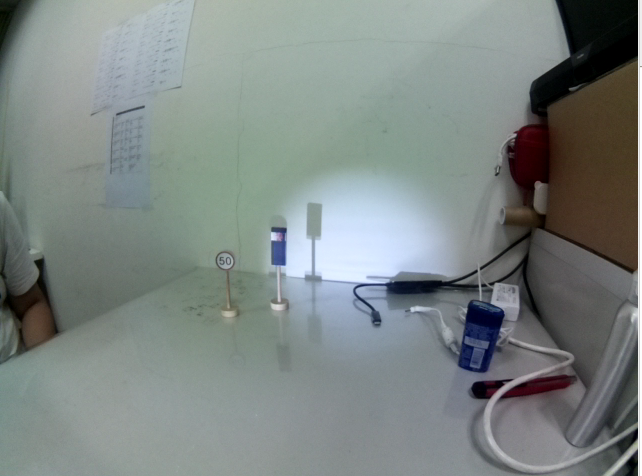Red: (269, 224, 291, 271)
Speed50: (214, 249, 236, 271)
